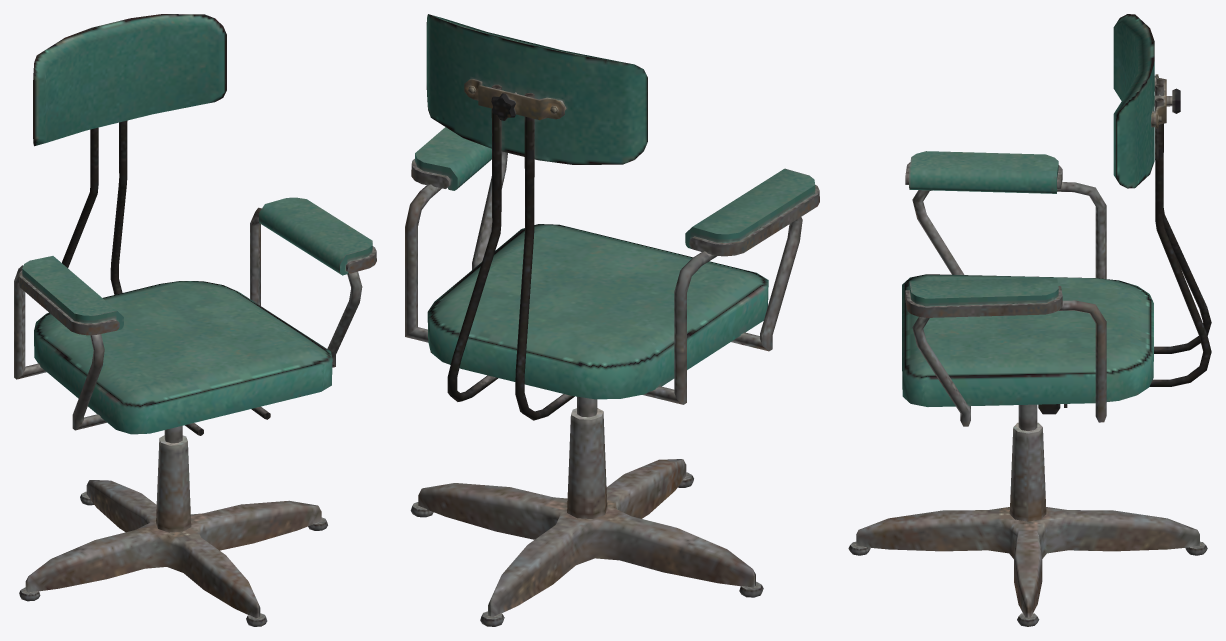
The model's file is 120_OfficeChair.fbx.
3 views of the same model, side by side, from view 1: azimuth 30°, elevation 25°; view 2: azimuth 150°, elevation 25°; view 3: azimuth 270°, elevation 25° (orthographic). The views are drawn at different scales.
Visible parts, largest first — view 1: LOD_1_Group_0_Sub_1__sm30_120_OfficeChairA01A_A_Mat; view 2: LOD_1_Group_0_Sub_1__sm30_120_OfficeChairA01A_A_Mat; view 3: LOD_1_Group_0_Sub_1__sm30_120_OfficeChairA01A_A_Mat.
Boxes of the visible parts, bbox=[...] form: LOD_1_Group_0_Sub_1__sm30_120_OfficeChairA01A_A_Mat: bbox=[14, 14, 376, 626]; LOD_1_Group_0_Sub_1__sm30_120_OfficeChairA01A_A_Mat: bbox=[405, 14, 819, 626]; LOD_1_Group_0_Sub_1__sm30_120_OfficeChairA01A_A_Mat: bbox=[848, 14, 1211, 626].
Size of the model in its own units: 0.7467 by 1.15 by 0.7547.
